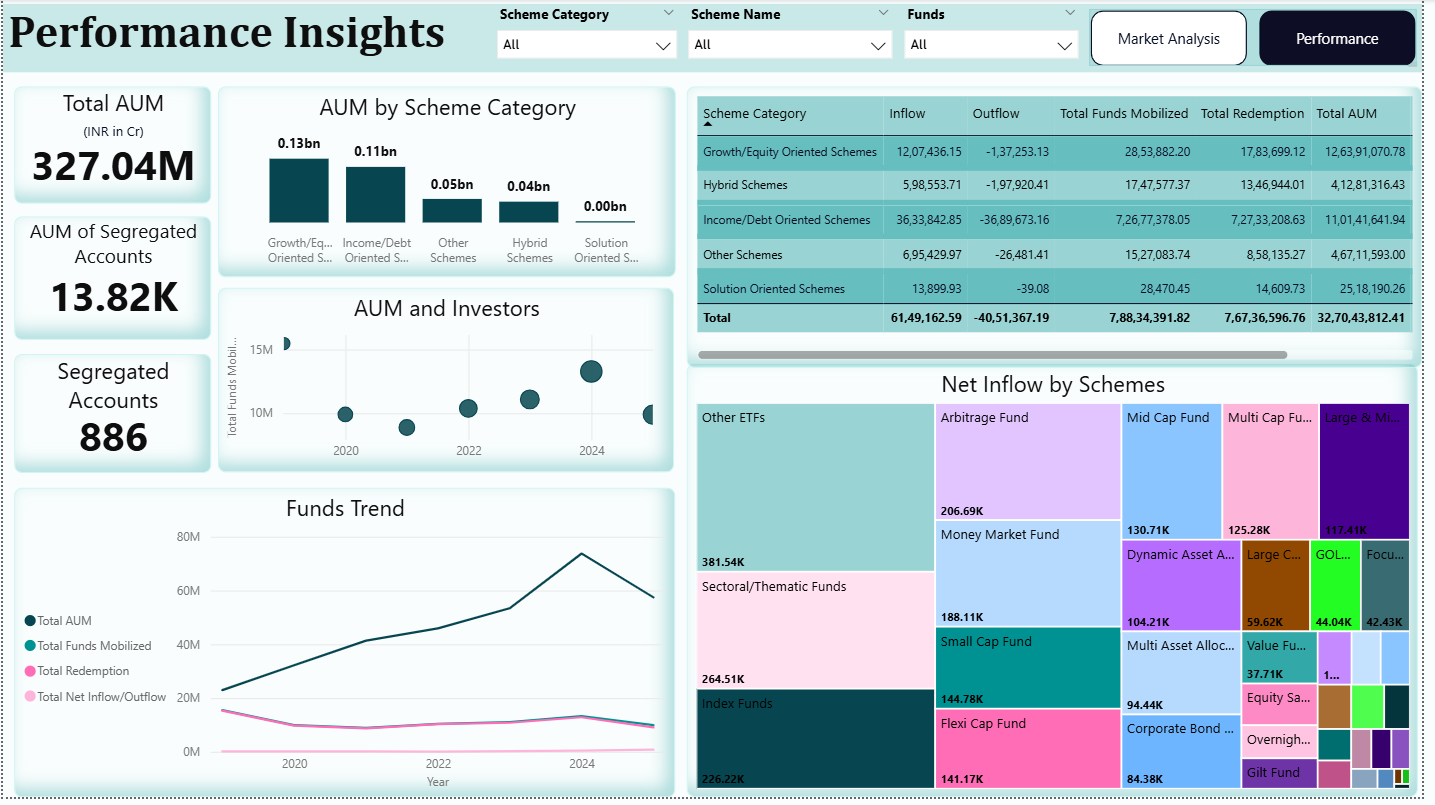

What the dashboard file says about the page in this screenshot:
{"tool":"powerbi","page":{"name":"Performance","canvas":[1280,720],"ordinal":1},"visuals":[{"type":"textbox","title":"Performance Insights","box":[0,4.2,1280.3,62],"z":0},{"type":"card","title":"Total AUM","fields":{"Values":["Mutual Funds(2019-2025).Total AUM"]},"box":[9.9,78.9,177.5,105.6],"z":1000},{"type":"clusteredColumnChart","title":"AUM by Scheme Category","fields":{"Category":["Mutual Funds(2019-2025).Scheme Category"],"Y":["Mutual Funds(2019-2025).Total AUM"]},"box":[194.4,78.9,412.7,171.8],"z":2000},{"type":"scatterChart","title":"AUM and Investors","fields":{"Y":["Mutual Funds(2019-2025).Total Funds Mobilized"],"Size":["Sum(Mutual Funds(2019-2025).No. of Folios)"],"X":["Custom Calendar.Date.Variation.Date Hierarchy.Year","Custom Calendar.Date.Variation.Date Hierarchy.Quarter","Custom Calendar.Date.Variation.Date Hierarchy.Month","Custom Calendar.Date.Variation.Date Hierarchy.Day"]},"box":[194.4,260.6,411.3,166.2],"z":3000},{"type":"treemap","title":"Net Inflow by Schemes","fields":{"Group":["Mutual Funds(2019-2025).Scheme Name"],"Values":["Mutual Funds(2019-2025).Total Net Inflow/Outflow"]},"box":[616.9,329.6,659.2,390.1],"z":4000},{"type":"lineChart","title":"Funds Trend","fields":{"Y":["Mutual Funds(2019-2025).Total AUM","Mutual Funds(2019-2025).Total Funds Mobilized","Mutual Funds(2019-2025).Total Redemption","Mutual Funds(2019-2025).Total AUM","Mutual Funds(2019-2025).Total Net Inflow/Outflow"],"Category":["Custom Calendar.Date.Variation.Date Hierarchy.Year"]},"box":[9.9,440.8,595.8,278.9],"z":5000},{"type":"card","title":"AUM of Segregated Accounts","fields":{"Values":["Mutual Funds(2019-2025).AUM"]},"box":[9.9,195.8,177.5,111.3],"z":6000},{"type":"card","title":"Segregated Accounts","fields":{"Values":["Mutual Funds(2019-2025).Total Segregated Portfolios"]},"box":[9.9,319.7,177.5,107],"z":7000},{"type":"tableEx","fields":{"Values":["Mutual Funds(2019-2025).Scheme Category","Mutual Funds(2019-2025).Inflow","Mutual Funds(2019-2025).Outflow","Mutual Funds(2019-2025).Total Funds Mobilized","Mutual Funds(2019-2025).Total Redemption","Mutual Funds(2019-2025).Total AUM","Mutual Funds(2019-2025).Total Net Inflow/Outflow"]},"box":[616.9,78.9,663.4,253.5],"z":8000},{"type":"slicer","fields":{"Values":["Mutual Funds(2019-2025).Scheme Category"]},"box":[434.7,0,182.7,69.3],"z":9000},{"type":"slicer","fields":{"Values":["Mutual Funds(2019-2025).Scheme Name"]},"box":[608,0,204,78.7],"z":10000},{"type":"slicer","fields":{"Values":["Funds.Funds"]},"box":[802.7,0,177.3,58.7],"z":11000},{"type":"pageNavigator","box":[979.4,8.8,295.6,51.5],"z":12000}]}

Visuals, with their boxes in screenshot pixels (x1, y1, x2, y2), scaled from the page's 1280x720 canvas onto the 1435x805 screenshot:
"Performance Insights" textbox: [left=0, top=5, right=1434, bottom=74]
"Total AUM" card: [left=11, top=88, right=210, bottom=206]
"AUM by Scheme Category" clusteredColumnChart: [left=218, top=88, right=681, bottom=280]
"AUM and Investors" scatterChart: [left=218, top=291, right=679, bottom=477]
"Net Inflow by Schemes" treemap: [left=692, top=369, right=1431, bottom=804]
"Funds Trend" lineChart: [left=11, top=493, right=679, bottom=804]
"AUM of Segregated Accounts" card: [left=11, top=219, right=210, bottom=343]
"Segregated Accounts" card: [left=11, top=357, right=210, bottom=477]
tableEx - Mutual Funds(2019-2025).Scheme Category x Mutual Funds(2019-2025).Inflow: [left=692, top=88, right=1434, bottom=372]
slicer - Mutual Funds(2019-2025).Scheme Category: [left=487, top=0, right=692, bottom=77]
slicer - Mutual Funds(2019-2025).Scheme Name: [left=682, top=0, right=910, bottom=88]
slicer - Funds.Funds: [left=900, top=0, right=1099, bottom=66]
pageNavigator: [left=1098, top=10, right=1429, bottom=67]
